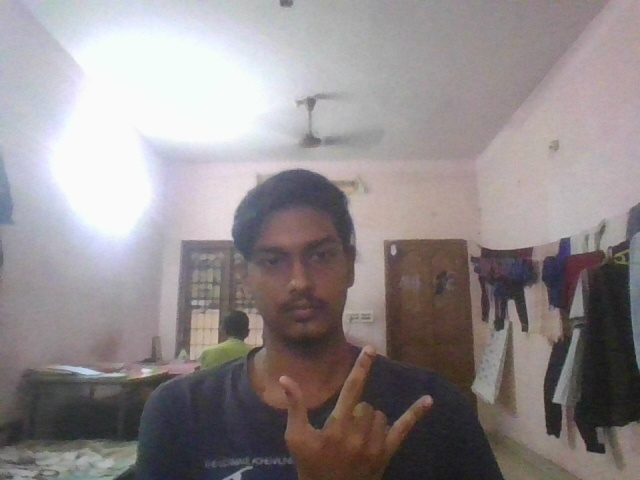iloveyou: (277, 343, 436, 480)
